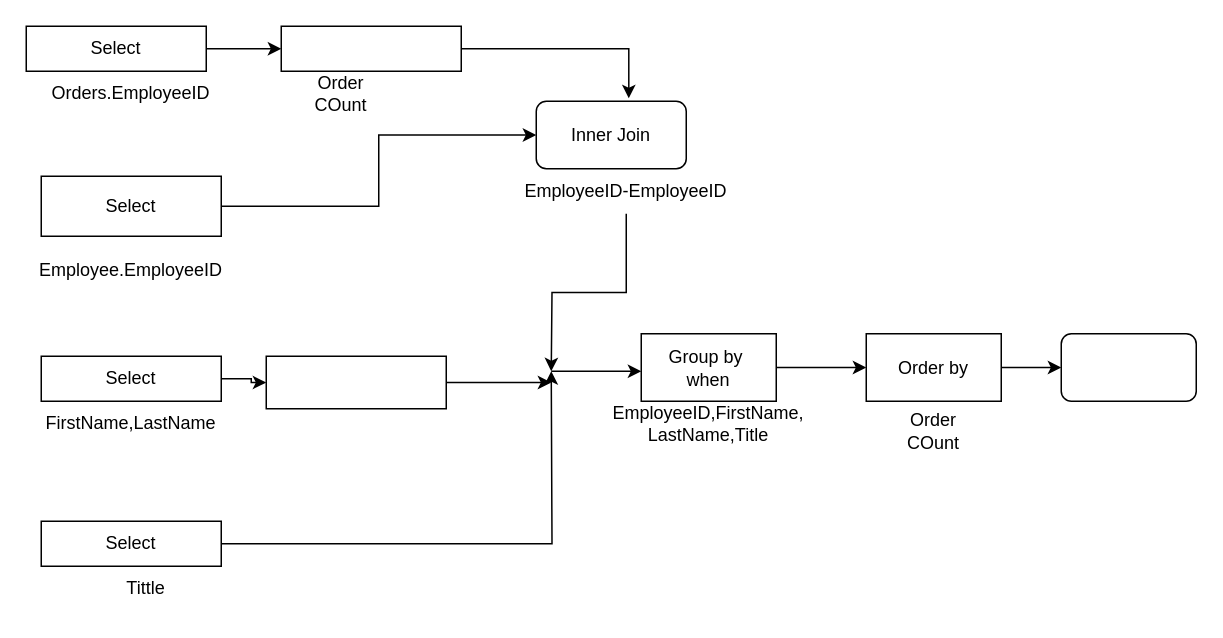
Some shapes in this 1223 by 638 pixel diagram are drawn without their labels. Each missing label, with the centre of its shape:
"Concat" goes at pixel 355 382.
"Count" goes at pixel 370 48.
"Selesai" goes at pixel 1128 366.
